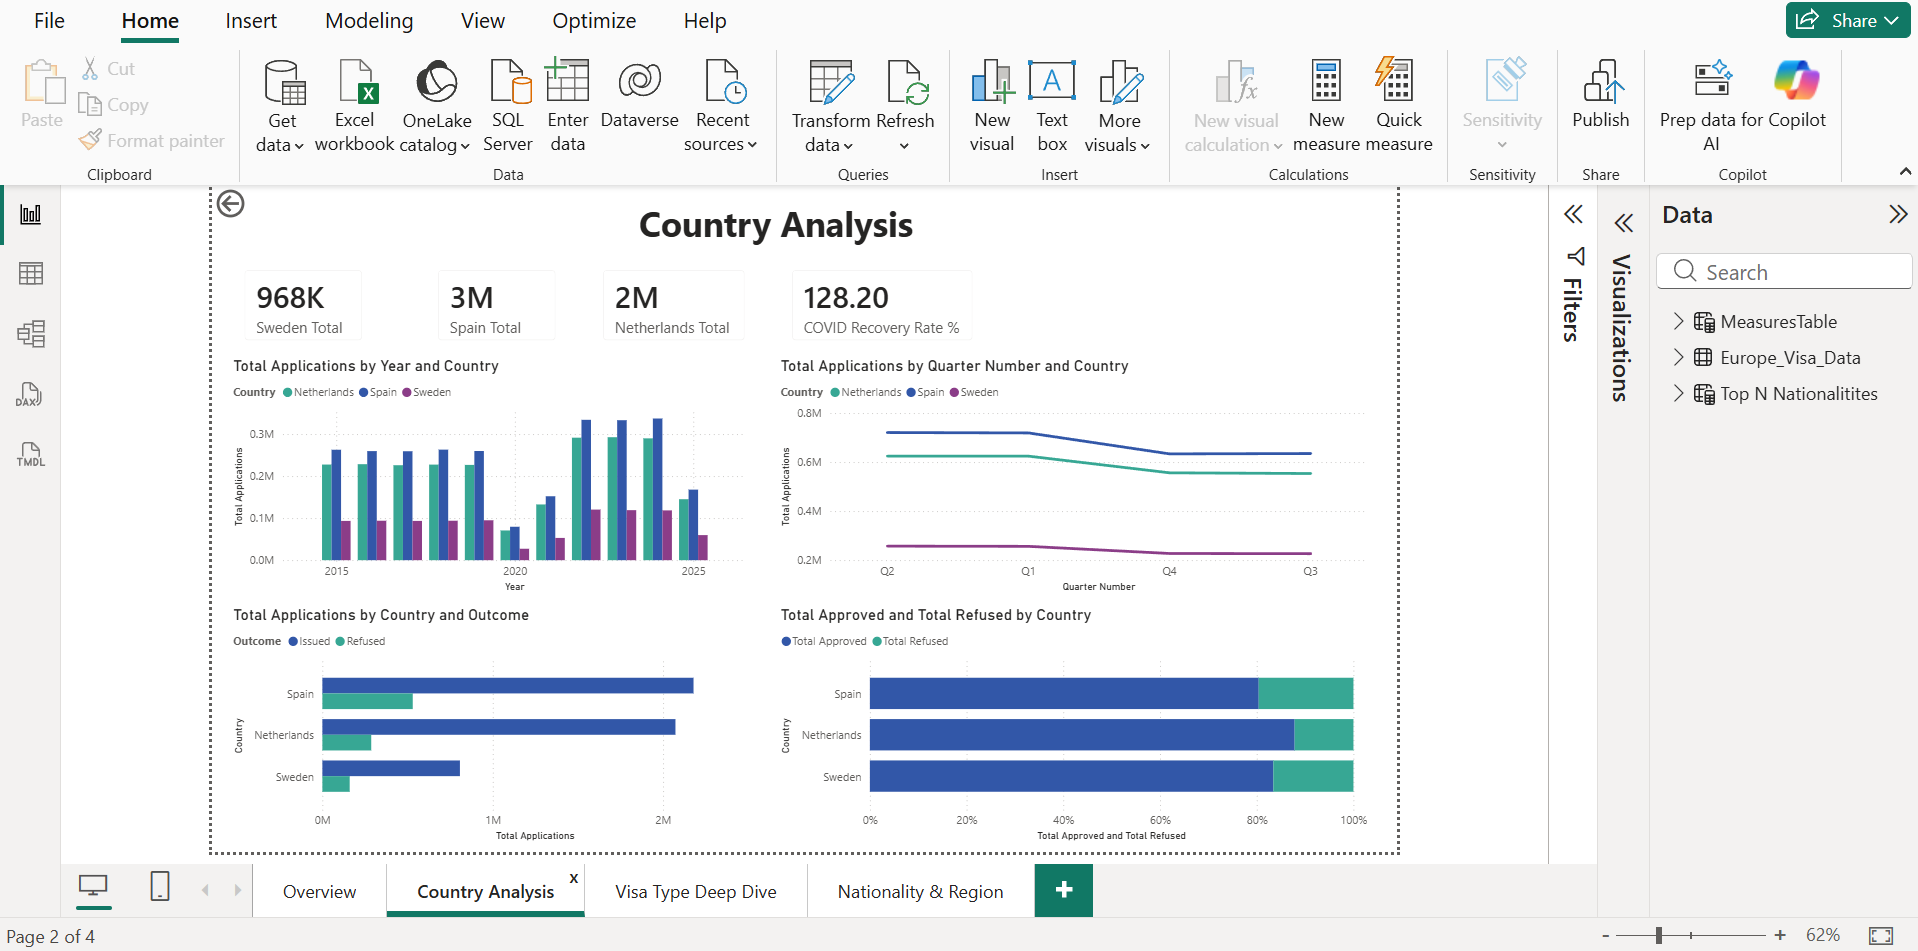

This screenshot's page, from the dashboard's own definition file:
{"tool":"powerbi","page":{"name":"Country Analysis","canvas":[1280,720],"ordinal":1},"visuals":[{"type":"cardVisual","fields":{"Data":["MeasuresTable.Sweden Total"]},"box":[17.8,74.5,161.9,110.1],"z":0},{"type":"cardVisual","fields":{"Data":["MeasuresTable.Spain Total"]},"box":[226.7,74.5,161.9,110.1],"z":1000},{"type":"cardVisual","fields":{"Data":["MeasuresTable.Netherlands Total"]},"box":[404.8,74.5,187.8,110.1],"z":2000},{"type":"cardVisual","fields":{"Data":["MeasuresTable.COVID Recovery Rate %"]},"box":[608.8,74.5,229.9,110.1],"z":3000},{"type":"clusteredColumnChart","fields":{"Category":["Europe_Visa_Data.Year"],"Y":["MeasuresTable.Total Applications"],"Series":["Europe_Visa_Data.Country"]},"box":[17.8,184.6,563.5,259.1],"z":4000},{"type":"clusteredBarChart","fields":{"Category":["Europe_Visa_Data.Country"],"Y":["MeasuresTable.Total Applications"],"Series":["Europe_Visa_Data.Outcome"]},"box":[17.8,453.4,574.8,259.1],"z":5000},{"type":"lineChart","fields":{"Category":["Europe_Visa_Data.Quarter Number"],"Y":["MeasuresTable.Total Applications"],"Series":["Europe_Visa_Data.Country"]},"box":[608.8,184.6,642.8,259.1],"z":6000},{"type":"hundredPercentStackedBarChart","fields":{"Category":["Europe_Visa_Data.Country"],"Y":["MeasuresTable.Total Approved","MeasuresTable.Total Refused"]},"box":[609,453,643,259],"z":7000},{"type":"actionButton","box":[0,0,100,40],"z":8000}]}

Visuals, with their boxes on the page's 1280x720 design canvas (x1, y1, x2, y2). These are canvas units, not pixel positions in the 1918x951 screenshot, which may show the page scaled, cropped or inside an application window:
cardVisual - MeasuresTable.Sweden Total: [x1=18, y1=74, x2=180, y2=185]
cardVisual - MeasuresTable.Spain Total: [x1=227, y1=74, x2=389, y2=185]
cardVisual - MeasuresTable.Netherlands Total: [x1=405, y1=74, x2=593, y2=185]
cardVisual - MeasuresTable.COVID Recovery Rate %: [x1=609, y1=74, x2=839, y2=185]
clusteredColumnChart - Europe_Visa_Data.Year x MeasuresTable.Total Applications: [x1=18, y1=185, x2=581, y2=444]
clusteredBarChart - Europe_Visa_Data.Country x MeasuresTable.Total Applications: [x1=18, y1=453, x2=593, y2=712]
lineChart - Europe_Visa_Data.Quarter Number x MeasuresTable.Total Applications: [x1=609, y1=185, x2=1252, y2=444]
hundredPercentStackedBarChart - Europe_Visa_Data.Country x MeasuresTable.Total Approved: [x1=609, y1=453, x2=1252, y2=712]
actionButton: [x1=0, y1=0, x2=100, y2=40]
